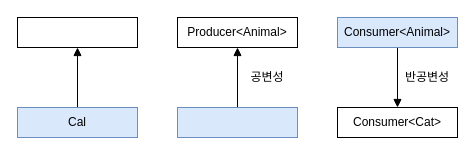
Some shapes in this 475 by 155 pixel diagram are drawn without their labels. The shapes that lost their labels are listed below. From the top down, each one's centre as x and y in pixels, then its label:
At point (77, 32): "Animal".
At point (237, 122): "Producer<Cat>".
